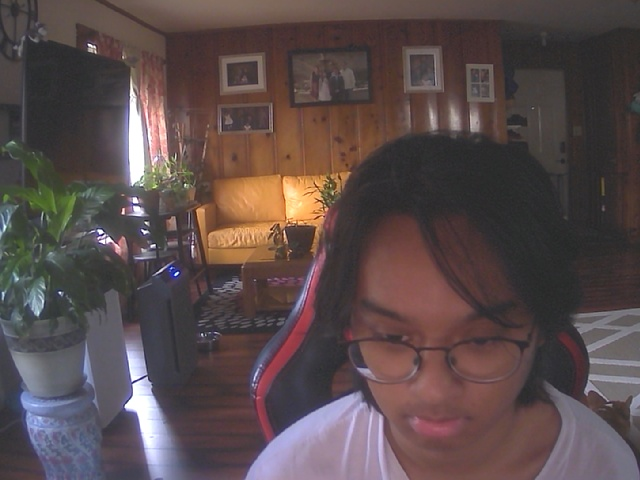sad: (328, 148, 563, 459)
